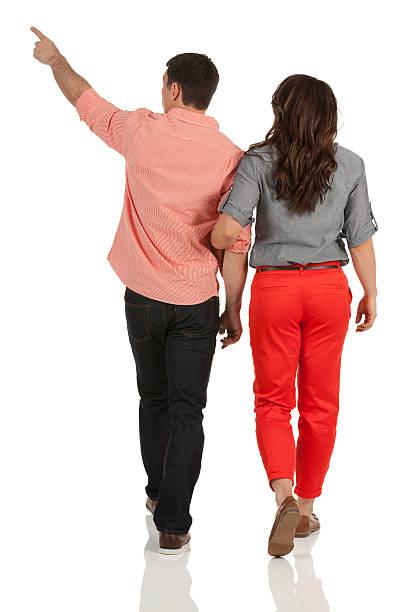long sleeve shirt: (61, 88, 250, 304), (223, 138, 380, 272)
trousers: (247, 259, 353, 502), (119, 287, 221, 535)
